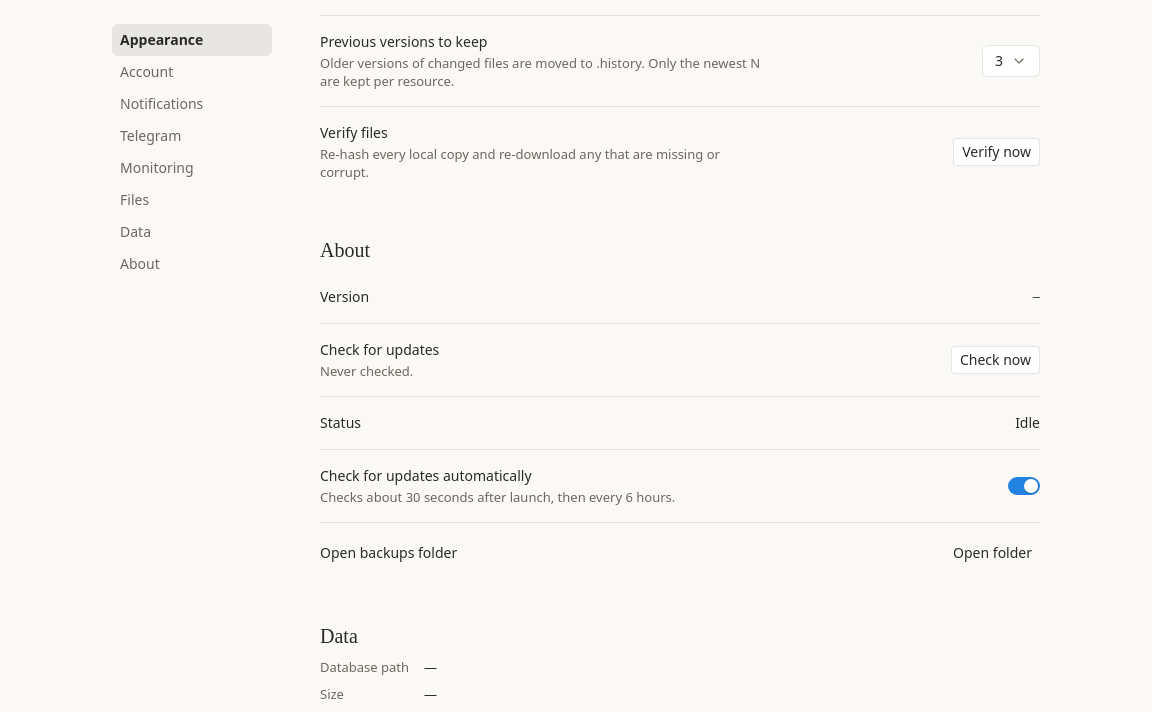
Test: Settings > About states › shows Up to date after a check finds nothing
This screenshot has width=1152, height=712.
(page scrolled)
Click the button "Check now".
click(995, 360)  # box [951,346,1040,374]
(page scrolled)
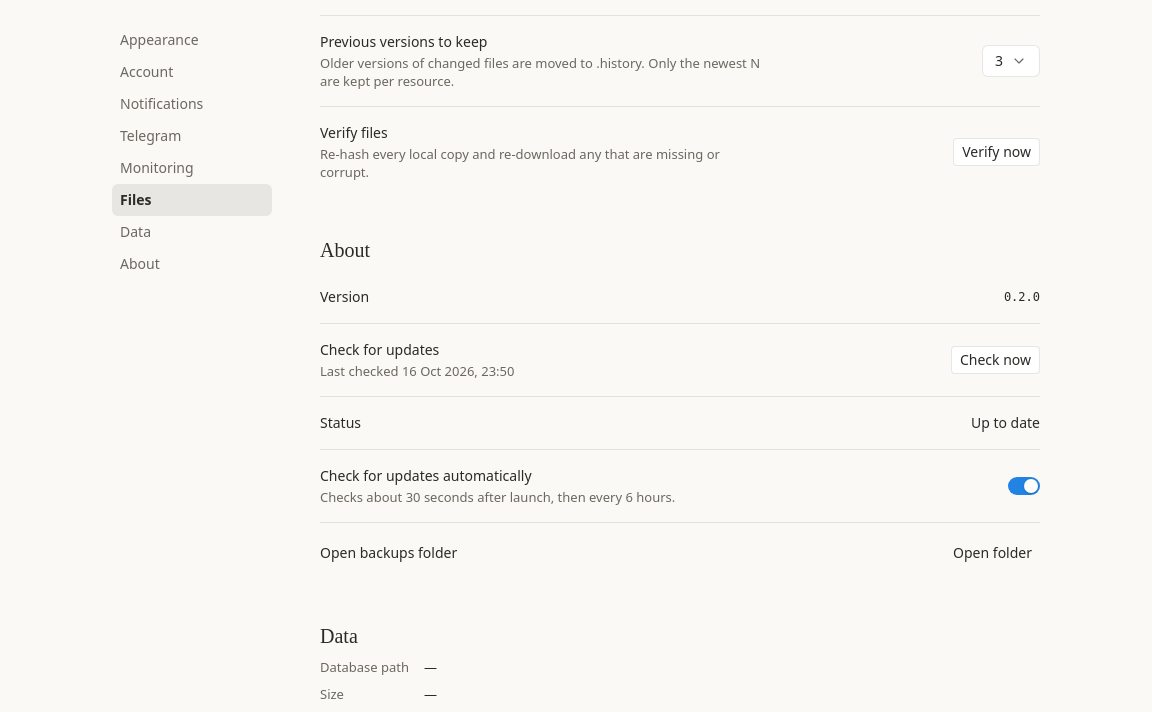
Expected: the text "Up to date" is shown, [971,413,1040,433]
